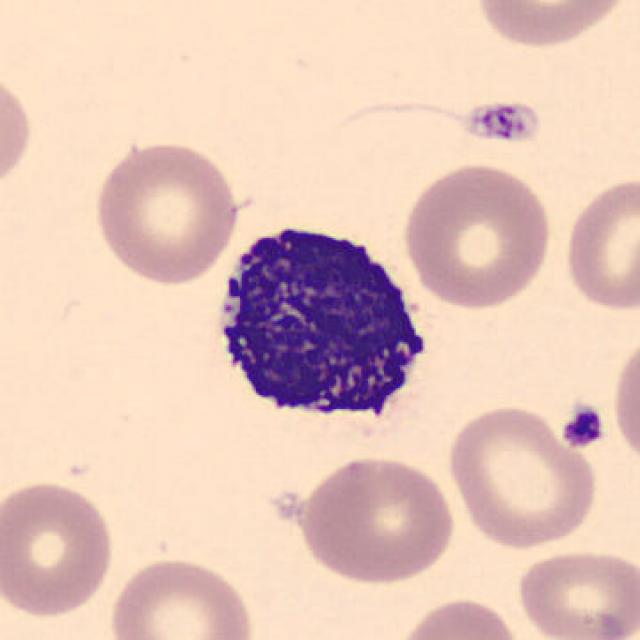Basophil: (201, 206, 446, 448)
Platelets: (459, 97, 544, 146), (558, 401, 608, 452)
RBC: (442, 400, 602, 552), (398, 159, 556, 312), (89, 134, 243, 287), (293, 451, 459, 587), (0, 476, 119, 621), (105, 552, 259, 640), (512, 545, 638, 640), (560, 171, 638, 316), (471, 0, 633, 51), (391, 594, 526, 640), (0, 65, 36, 199), (608, 330, 640, 470)
